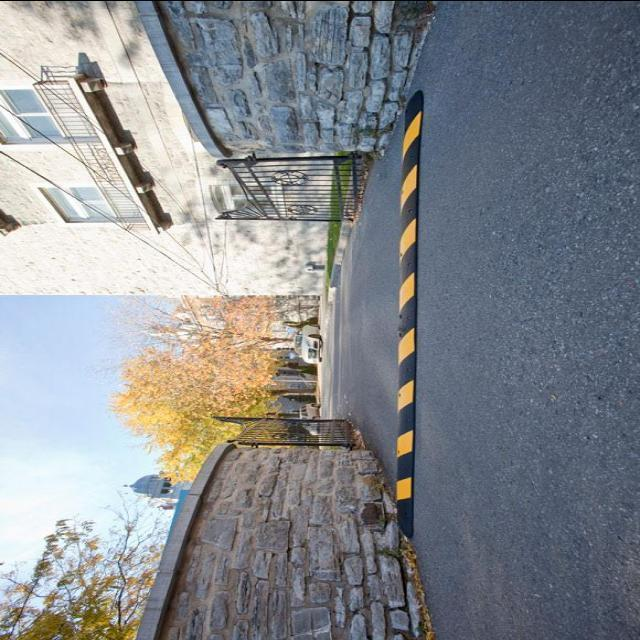speedbreaker: (388, 82, 433, 556)
